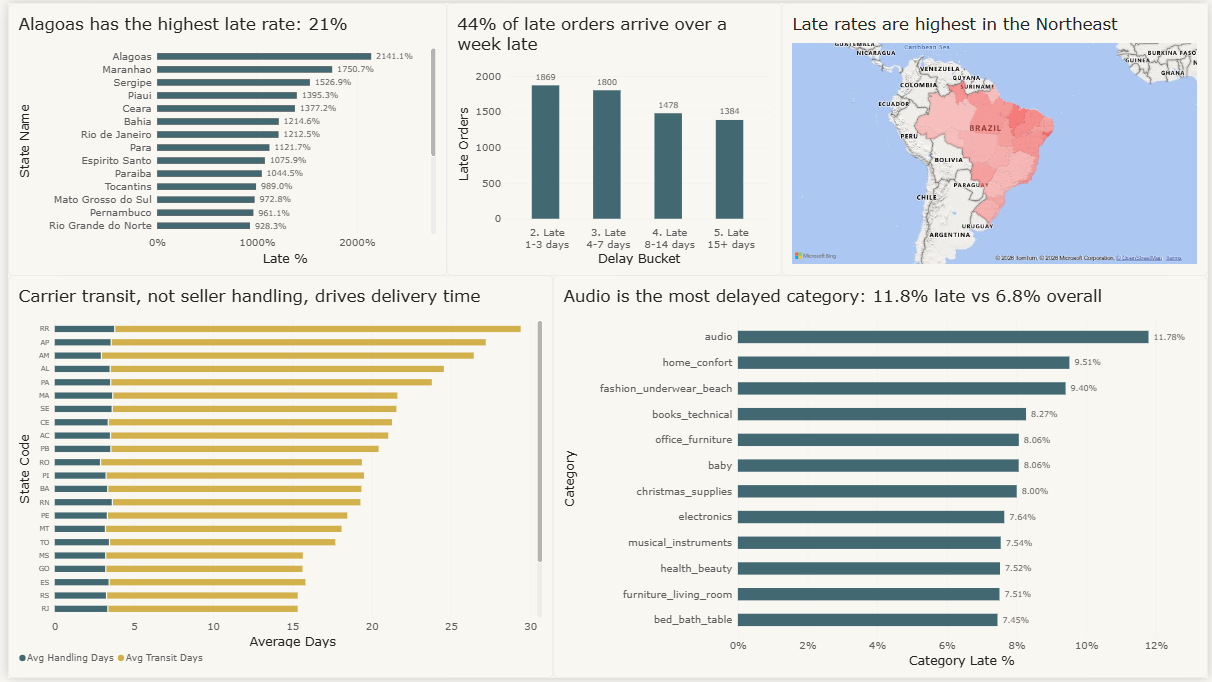

Layout of this report page (visuals, bound fields, positions):
{"tool":"powerbi","page":{"name":"Delivery performance","canvas":[1920,1080],"ordinal":1},"visuals":[{"type":"barChart","title":"Alagoas has the highest late rate: 21%","fields":{"Category":["dim_state.state_name"],"Y":["fact_orders.Late %"]},"box":[0,0,702,436],"z":0},{"type":"barChart","title":"Carrier transit, not seller handling, drives delivery time","fields":{"Category":["dim_state.state_code"],"Y":["fact_orders.Avg Handling Days","fact_orders.Avg Transit Days"]},"box":[0,436,872,644],"z":1000},{"type":"clusteredColumnChart","title":"44% of late orders arrive over a week late","fields":{"Category":["fact_orders.delay_bucket"],"Y":["fact_orders.Delivered Orders"]},"box":[702,0,536,436],"z":2000},{"type":"barChart","title":"Audio is the most delayed category: 11.8% late vs 6.8% overall","fields":{"Category":["fact_order_category.category"],"Y":["fact_order_category.Category Late %"]},"box":[872,436,1048,644],"z":3000},{"type":"filledMap","title":"Late rates are highest in the Northeast","fields":{"Category":["dim_state.map_location"]},"box":[1238,0,682,436],"z":4000}]}

Visuals, with their boxes in screenshot pixels (x1, y1, x2, y2), scaled from the page's 1920x1080 canvas onto the 1212x682 screenshot:
"Alagoas has the highest late rate: 21%" barChart: {"x1": 0, "y1": 0, "x2": 443, "y2": 275}
"Carrier transit, not seller handling, drives delivery time" barChart: {"x1": 0, "y1": 275, "x2": 550, "y2": 681}
"44% of late orders arrive over a week late" clusteredColumnChart: {"x1": 443, "y1": 0, "x2": 781, "y2": 275}
"Audio is the most delayed category: 11.8% late vs 6.8% overall" barChart: {"x1": 550, "y1": 275, "x2": 1211, "y2": 681}
"Late rates are highest in the Northeast" filledMap: {"x1": 781, "y1": 0, "x2": 1211, "y2": 275}
